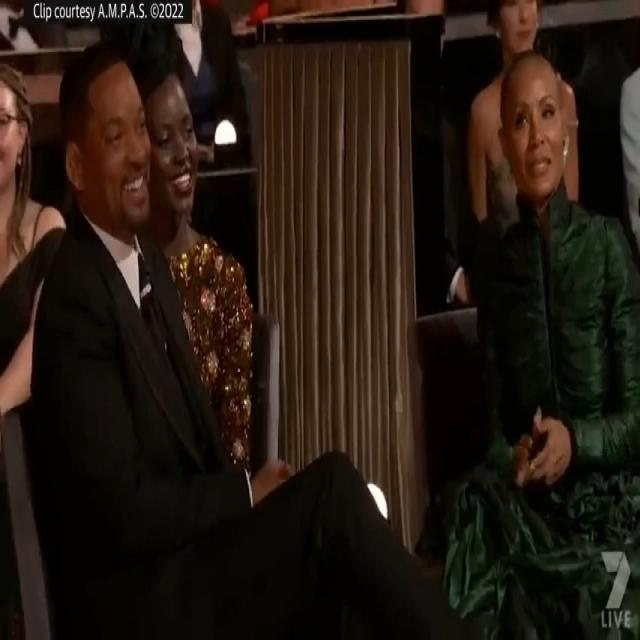non-fight: (27, 26, 640, 640)
